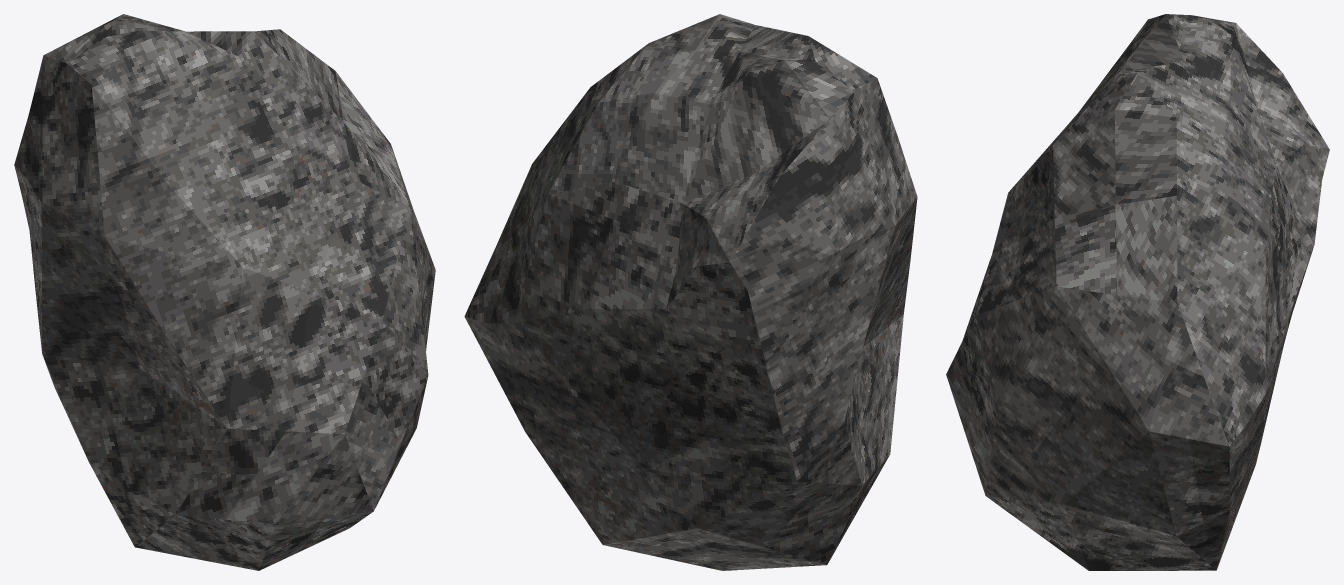
File: mineral_rock_NO_EMIS.glb
The picture shows the model from 3 angles, left to right: view 1: azimuth 30°, elevation 25°; view 2: azimuth 150°, elevation 25°; view 3: azimuth 270°, elevation 25°; orthographic projection. The views are drawn at different scales.
Parts seen in each view (by area): view 1: Icosphere; view 2: Icosphere; view 3: Icosphere.
Part boxes in pixels (x1=…): Icosphere: x1=14, y1=14, x2=435, y2=570; Icosphere: x1=464, y1=14, x2=917, y2=570; Icosphere: x1=946, y1=14, x2=1329, y2=570.
Bounding box in the file's own units: 2.02 × 2.71 × 1.86.
1 material, 1 textured.
